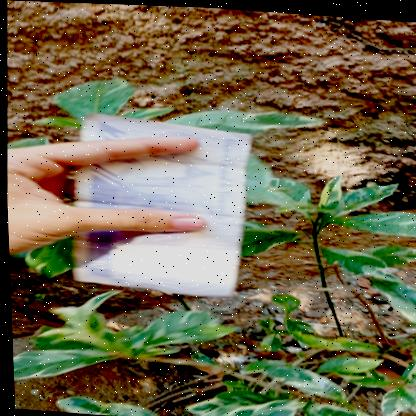ten-back-vef: (69, 104, 254, 298)
